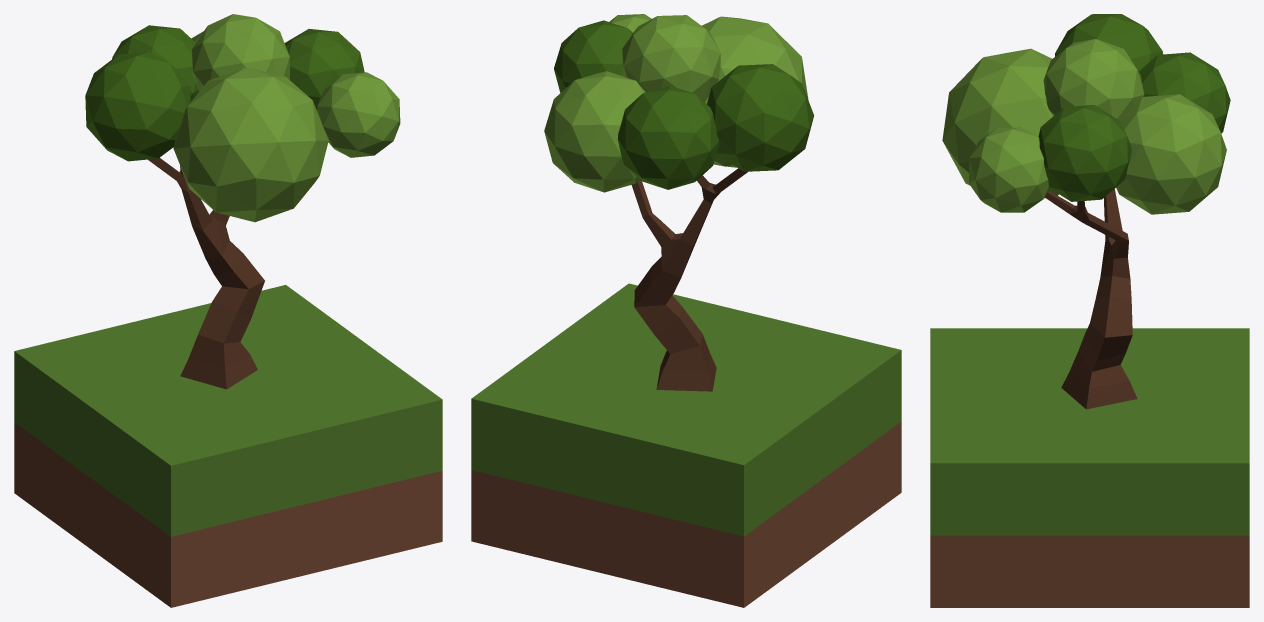
Rendered from Tree2.fbx.
3 renders of one model, left to right at view 1: azimuth 30°, elevation 25°; view 2: azimuth 150°, elevation 25°; view 3: azimuth 270°, elevation 25°, orthographic.
Parts seen in each view (by area): view 1: !Empty, Tree2IcoPart6, Tree2IcoBase, Tree2IcoPart2, Tree2IcoPart1, Tree2IcoPart3, Tree2IcoPart4, Tree2IcoPart5; view 2: !Empty, Tree2IcoBase, Tree2IcoPart2, Tree2IcoPart7, Tree2IcoPart5, Tree2IcoPart3, Tree2IcoPart6, Tree2IcoPart4; view 3: !Empty, Tree2IcoPart7, Tree2IcoBase, Tree2IcoPart6, Tree2IcoPart4, Tree2IcoPart3, Tree2IcoPart1, Tree2IcoPart5, Tree2IcoPart2.
Part boxes in pixels (bbox=[...]): !Empty: bbox=[14, 285, 442, 607]; Tree2IcoPart6: bbox=[173, 68, 328, 222]; Tree2IcoBase: bbox=[148, 157, 264, 389]; Tree2IcoPart2: bbox=[85, 52, 190, 161]; Tree2IcoPart1: bbox=[317, 72, 400, 157]; Tree2IcoPart3: bbox=[192, 14, 289, 90]; Tree2IcoPart4: bbox=[284, 29, 364, 110]; Tree2IcoPart5: bbox=[112, 25, 199, 101]; !Empty: bbox=[471, 283, 901, 607]; Tree2IcoBase: bbox=[631, 168, 747, 391]; Tree2IcoPart2: bbox=[707, 64, 814, 171]; Tree2IcoPart7: bbox=[544, 71, 645, 192]; Tree2IcoPart5: bbox=[617, 85, 719, 189]; Tree2IcoPart3: bbox=[622, 15, 720, 101]; Tree2IcoPart6: bbox=[702, 16, 808, 167]; Tree2IcoPart4: bbox=[554, 20, 632, 92]; !Empty: bbox=[930, 328, 1249, 607]; Tree2IcoPart7: bbox=[1116, 94, 1226, 214]; Tree2IcoBase: bbox=[1044, 189, 1137, 409]; Tree2IcoPart6: bbox=[942, 48, 1058, 198]; Tree2IcoPart4: bbox=[1038, 105, 1131, 201]; Tree2IcoPart3: bbox=[1043, 39, 1144, 120]; Tree2IcoPart1: bbox=[969, 127, 1049, 212]; Tree2IcoPart5: bbox=[1138, 52, 1230, 133]; Tree2IcoPart2: bbox=[1055, 14, 1162, 71].
Size of the model in its own units: 100 by 173 by 100.
